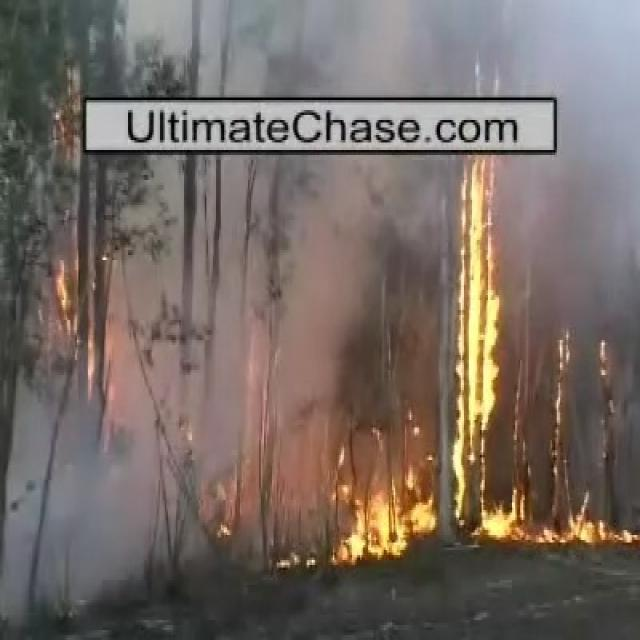fire: (456, 164, 497, 511), (352, 484, 440, 558)
smoke: (18, 409, 104, 611), (518, 13, 624, 90)
